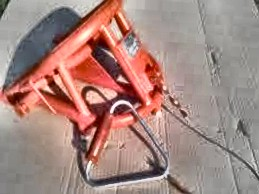chock: (0, 0, 173, 143)
